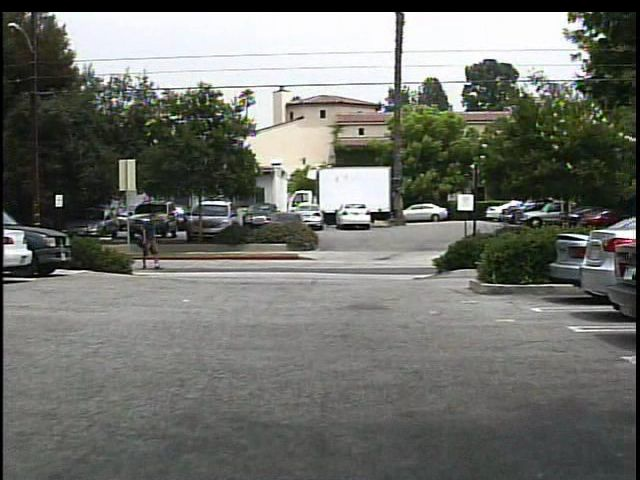person: (139, 213, 167, 273)
